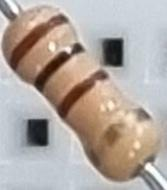Black: (29, 39, 89, 93)
Brown: (5, 9, 74, 72), (53, 66, 113, 120)
Side-Silver: (86, 102, 155, 170)
